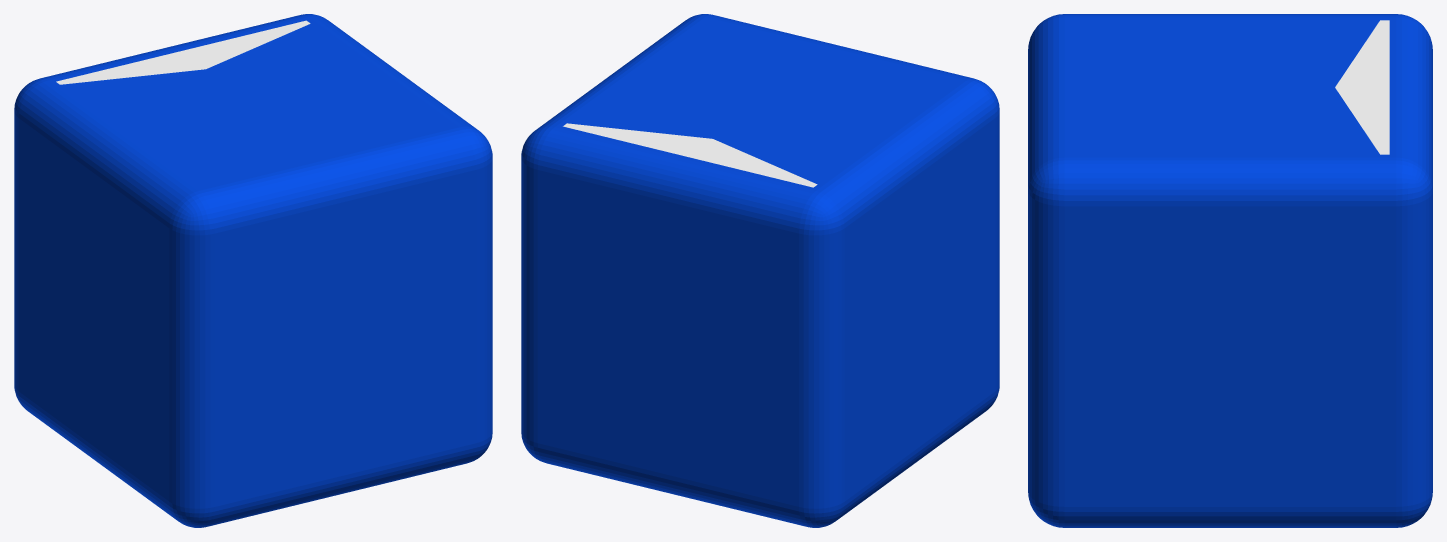
The model's file is BlueCube.fbx.
3 renders of one model, left to right at view 1: azimuth 30°, elevation 25°; view 2: azimuth 150°, elevation 25°; view 3: azimuth 270°, elevation 25°, orthographic. The views are drawn at different scales.
Parts seen in each view (by area): view 1: RedCube; view 2: RedCube; view 3: RedCube.
Boxes of the visible parts, box(x1,y1,x2,y2) form: RedCube: box(14, 14, 492, 527); RedCube: box(521, 14, 999, 527); RedCube: box(1028, 14, 1432, 527).
Bounding box in the file's own units: 200 × 200 × 200.
